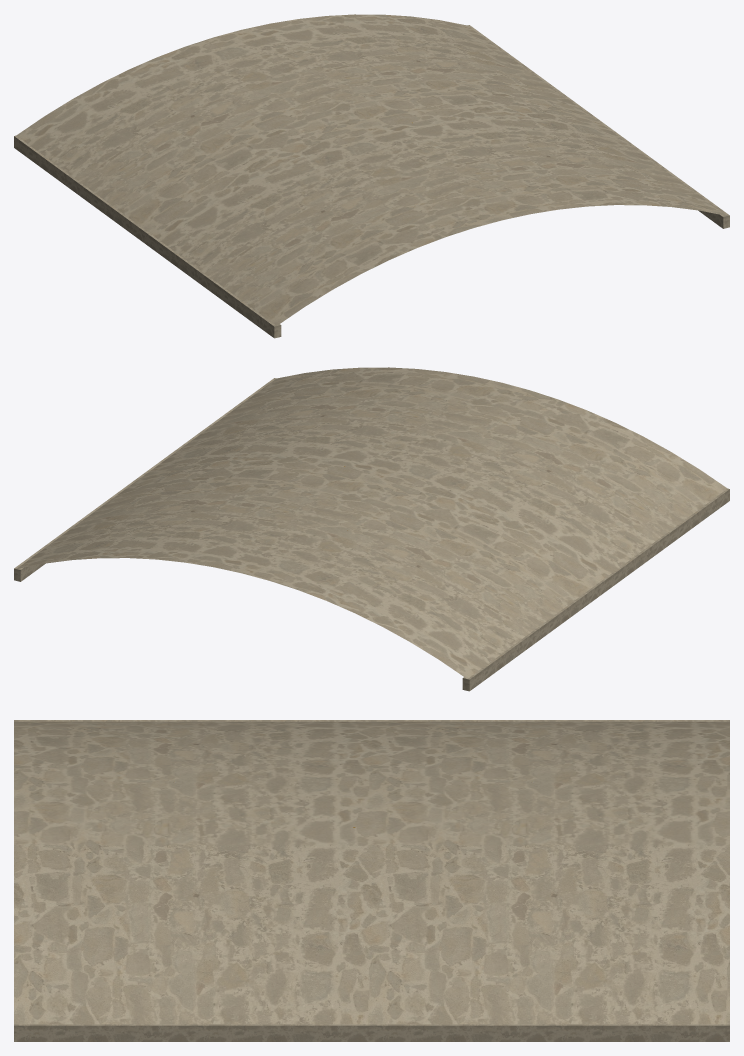
Rendered from hollow_cellar_trim.glb.
3 views of the same model, one above another, from view 1: azimuth 30°, elevation 25°; view 2: azimuth 150°, elevation 25°; view 3: azimuth 270°, elevation 25° (orthographic). The views are drawn at different scales.
Visible parts, largest first — view 1: hollow_cellar_trim; view 2: hollow_cellar_trim; view 3: hollow_cellar_trim.
Boxes of the visible parts, x1=… form: hollow_cellar_trim: x1=14, y1=14, x2=729, y2=338; hollow_cellar_trim: x1=14, y1=367, x2=729, y2=691; hollow_cellar_trim: x1=14, y1=720, x2=729, y2=1041.
Bounding box in the file's own units: 4.04 × 0.53 × 4.
2 materials, 2 textured.
